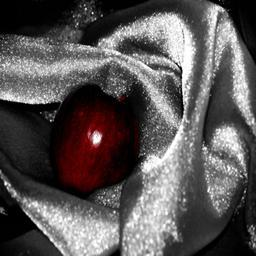apple: (51, 88, 138, 195)
